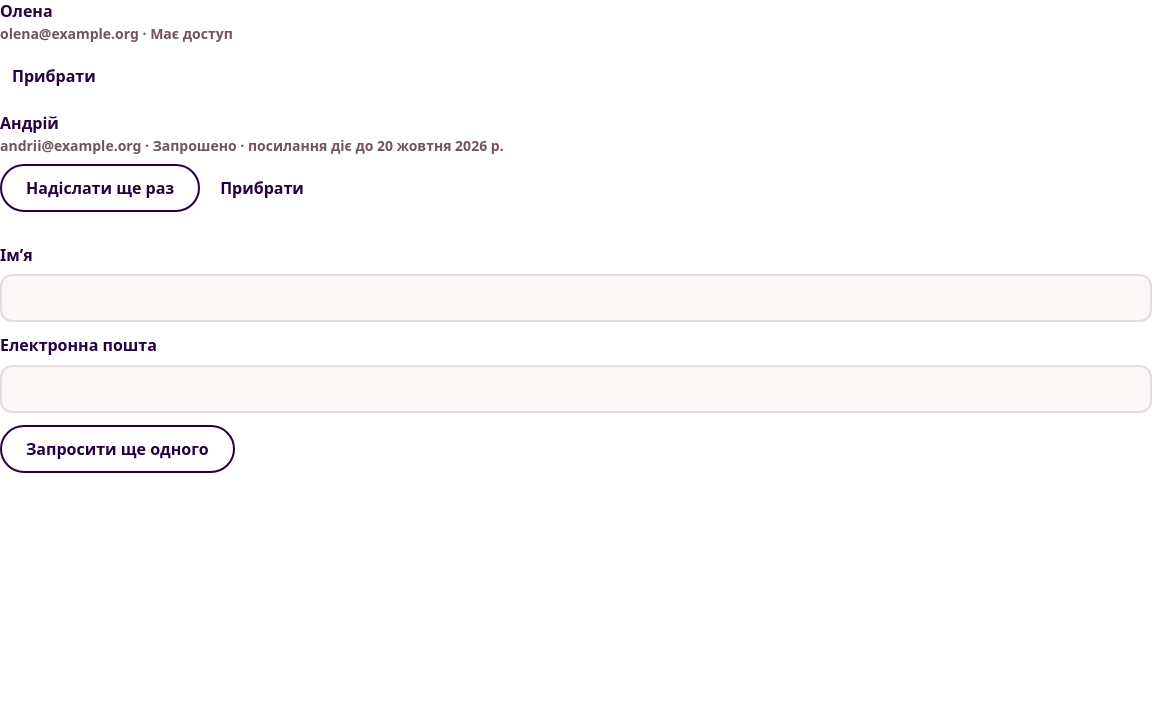
Scenario: remove asks first › «Скасувати» sends nothing; confirming removes, and the row is gone after the re-read
This screenshot has width=1152, height=720.
What coordinates should you click on to do the following:
click the button "Прибрати" below "Олена"
I would click on:
 (54, 76)
Its box is [0,52,108,100].
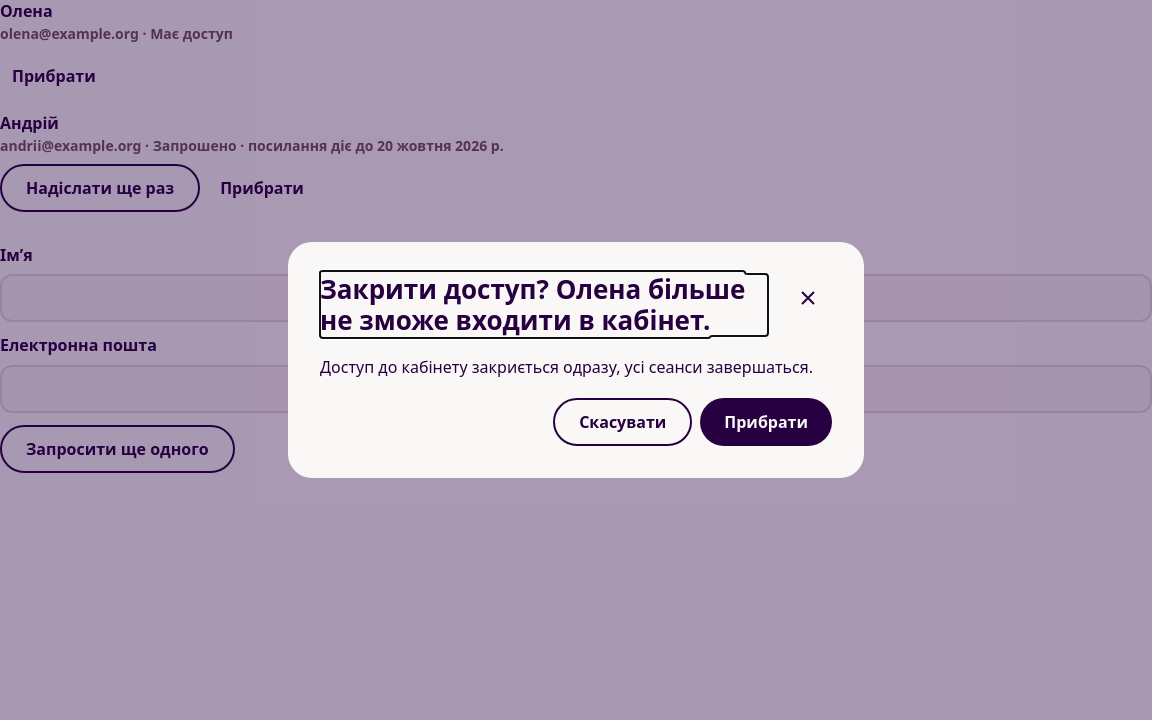
Expected: the text "Доступ до кабінету закриється одразу, усі сеанси завершаться." is shown, [320,356,832,378]
What coordinates should you click on to do the following:
click the button "Скасувати"
I would click on:
 (623, 422)
Its box is [553,398,692,446].
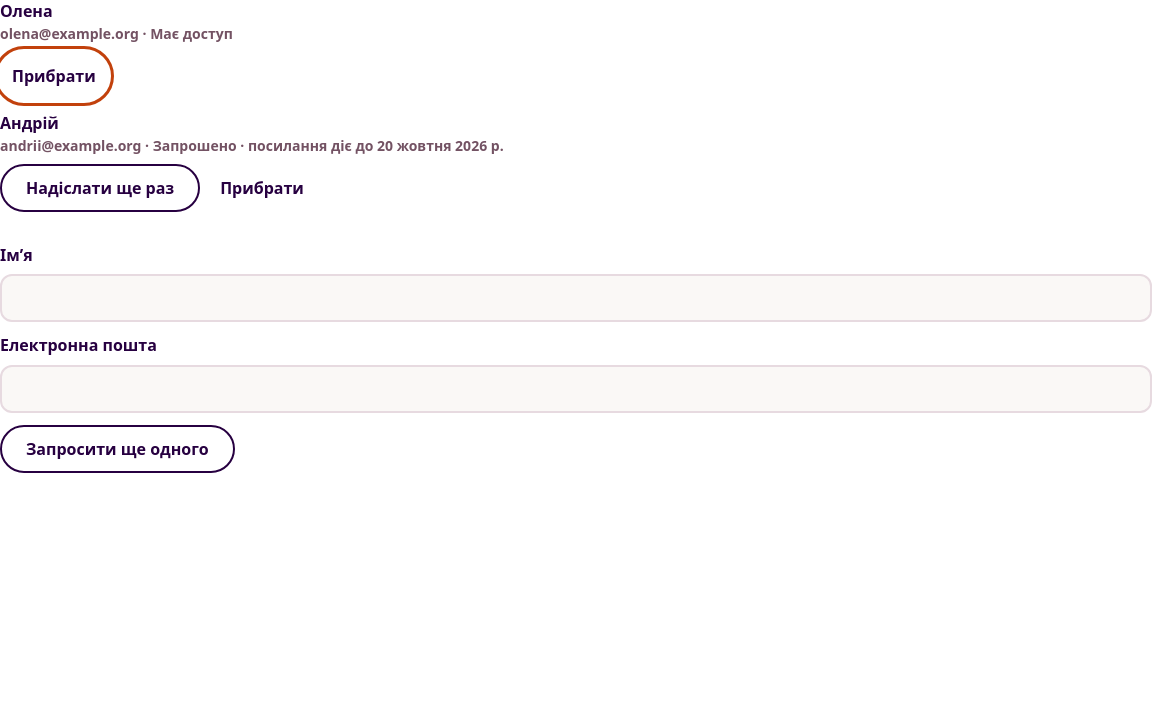
Expected: the dialog is gone
What coordinates should you click on to do the following:
click the button "Прибрати" below "Олена"
I would click on:
 (54, 76)
Its box is [0,52,108,100].
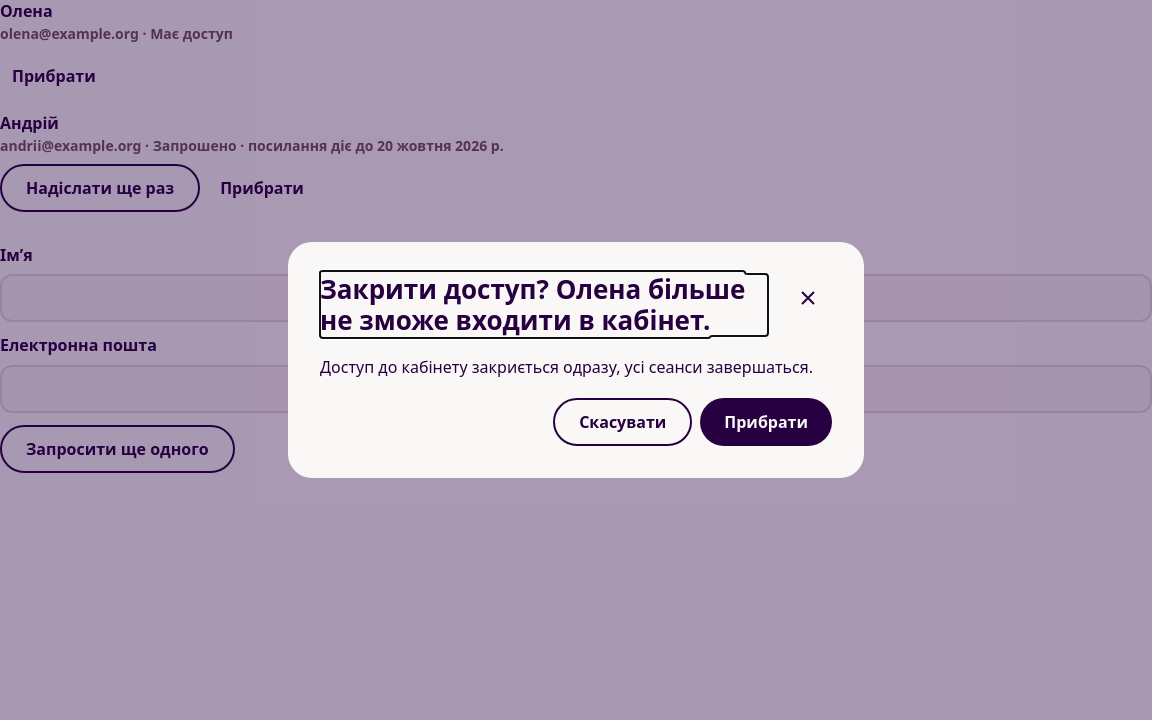
What coordinates should you click on to do the following:
click the button "Прибрати"
I would click on:
 (766, 422)
Its box is [700,398,832,446].
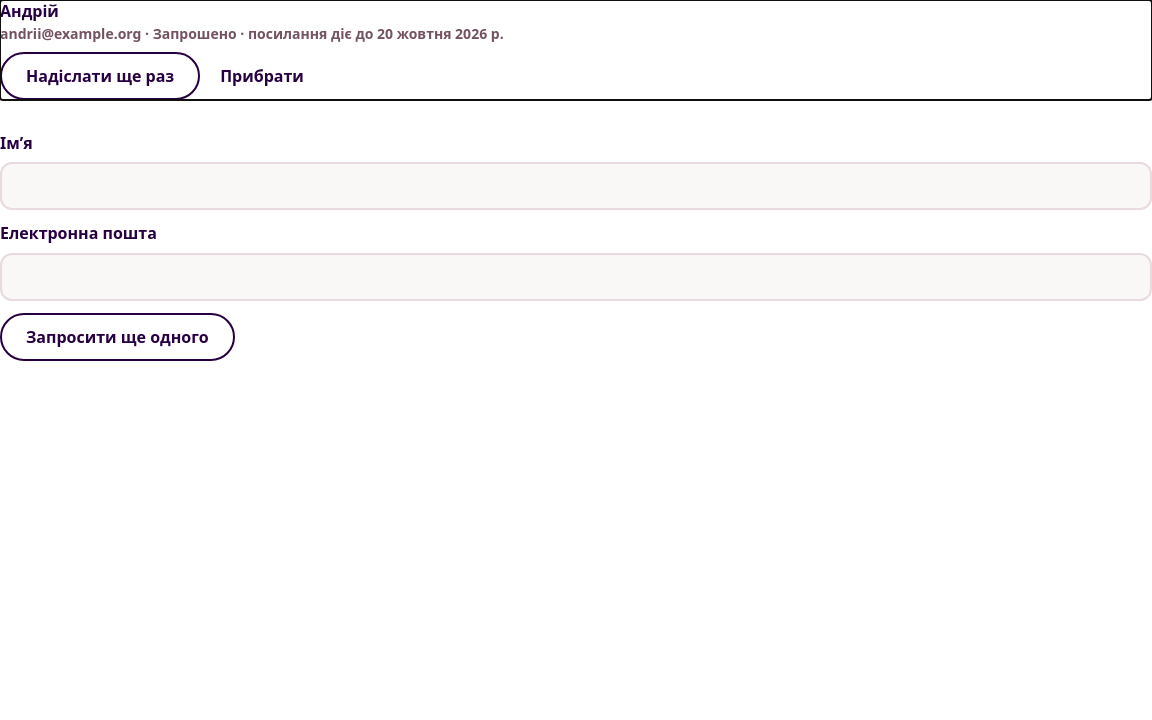
Expected: the dialog is gone
Expected: the text "Олена" is gone
